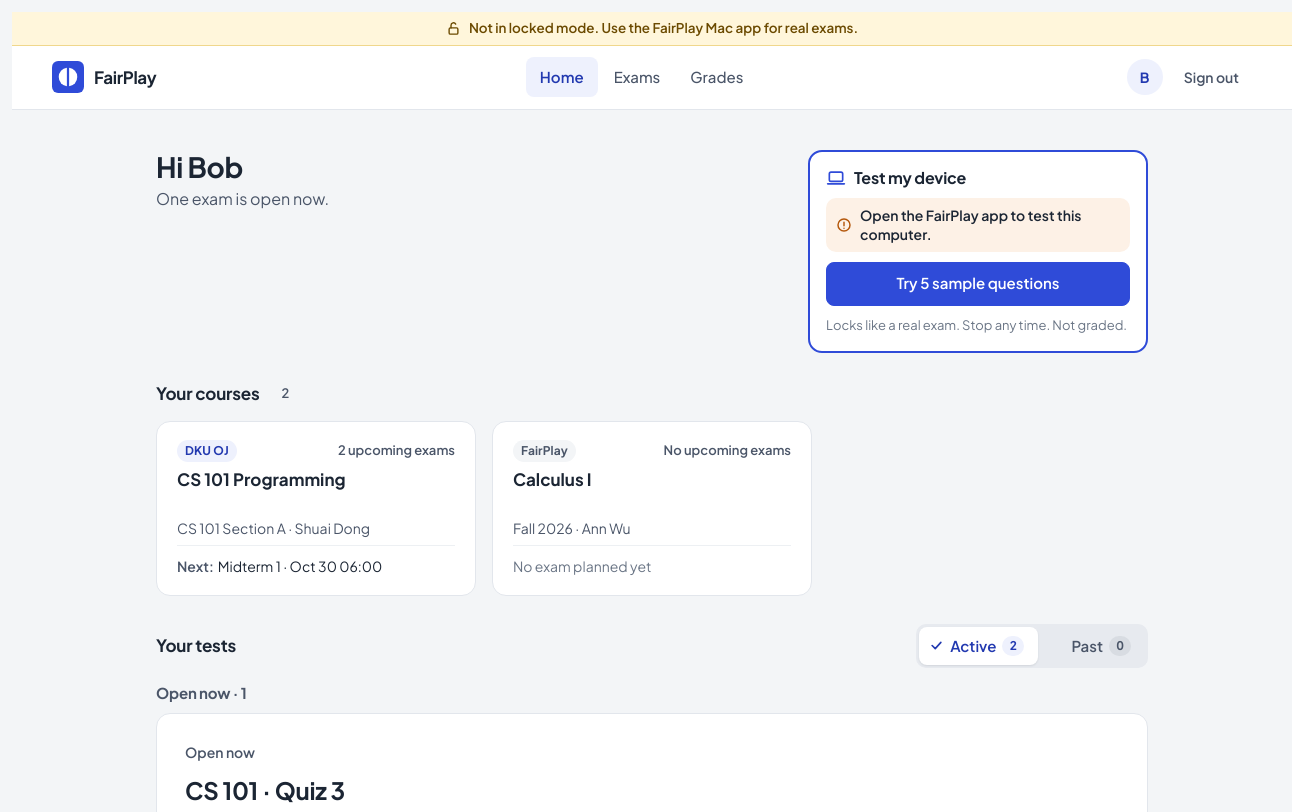
Test: course cards › clicking a card opens the course page (no panel under the cards any more)
The width and height of the screenshot is (1292, 812).
Click the link with test id "course-card" that starts with "DKU OJ": coordinates (207, 451) [156,421,476,596]
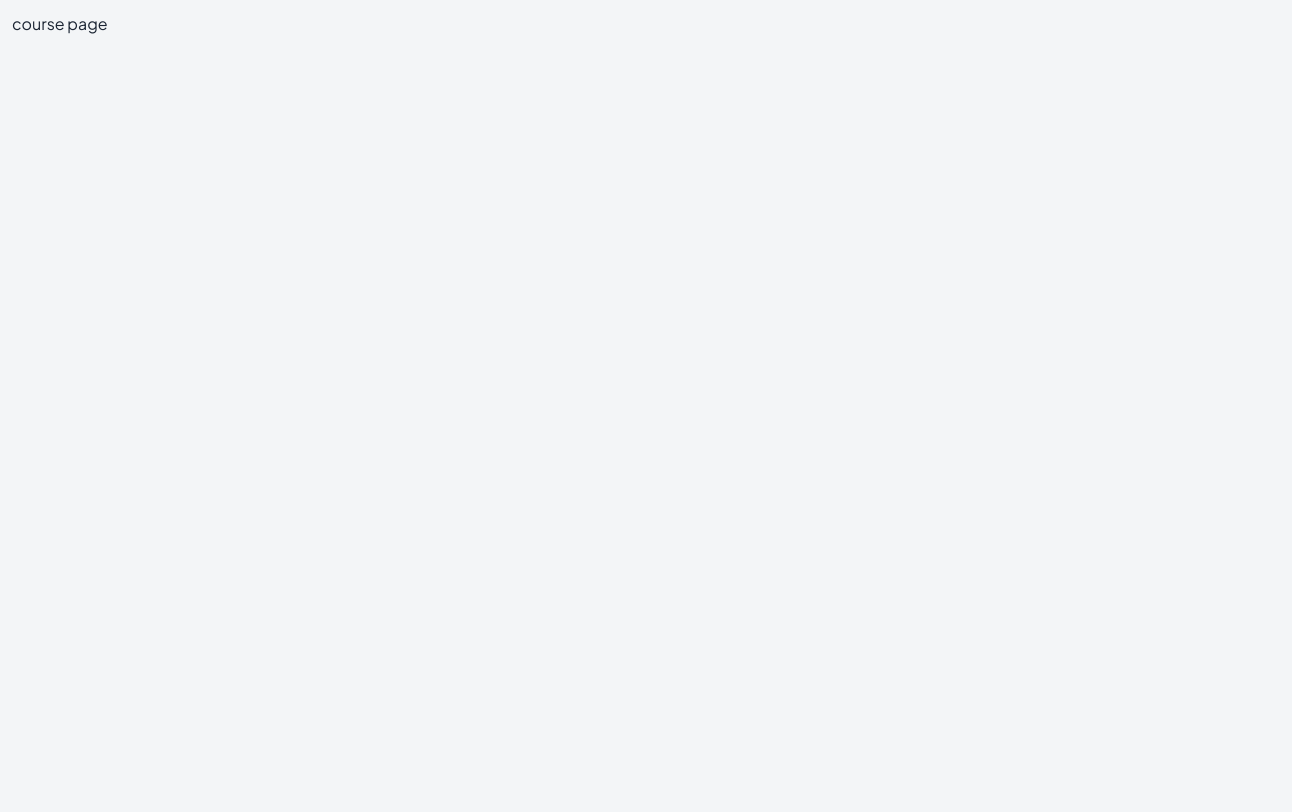
Check: the text "course page" is shown, box [12,13,108,34]
